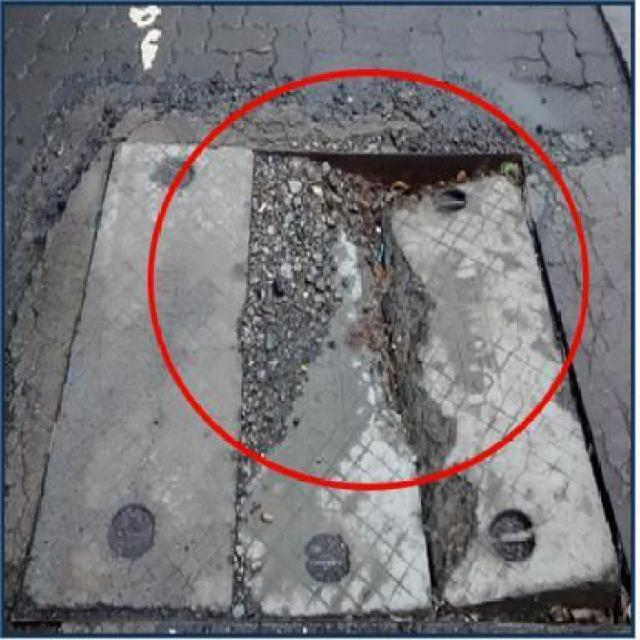Manhole: (224, 140, 636, 628)
